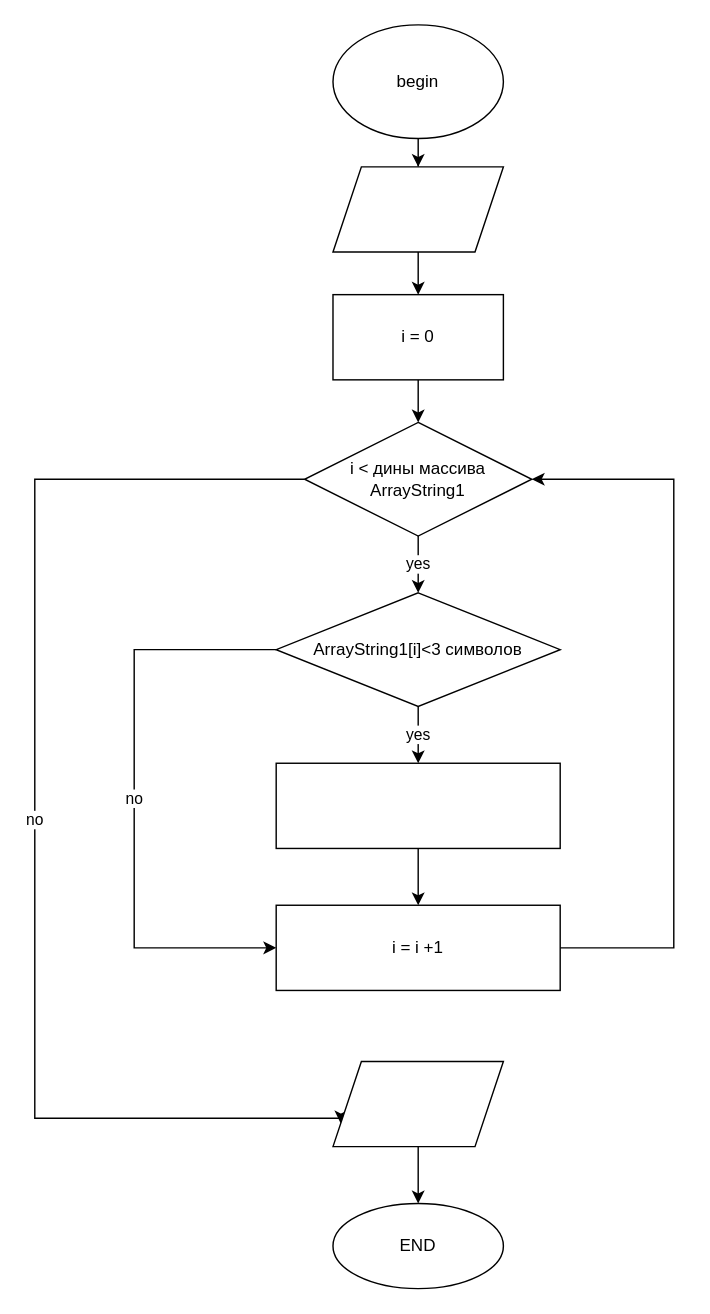
Some shapes in this 710 by 1314 pixel diagram are drawn without their labels. Here are the shapes that lost their labels. From the top down, the centre of each, then its label:
pixel 417 208: ArrayString1; ArrayString2;
pixel 417 805: ArrayString2[i] = ArrayString1[i]
pixel 417 1103: Вывод ArrayString2
